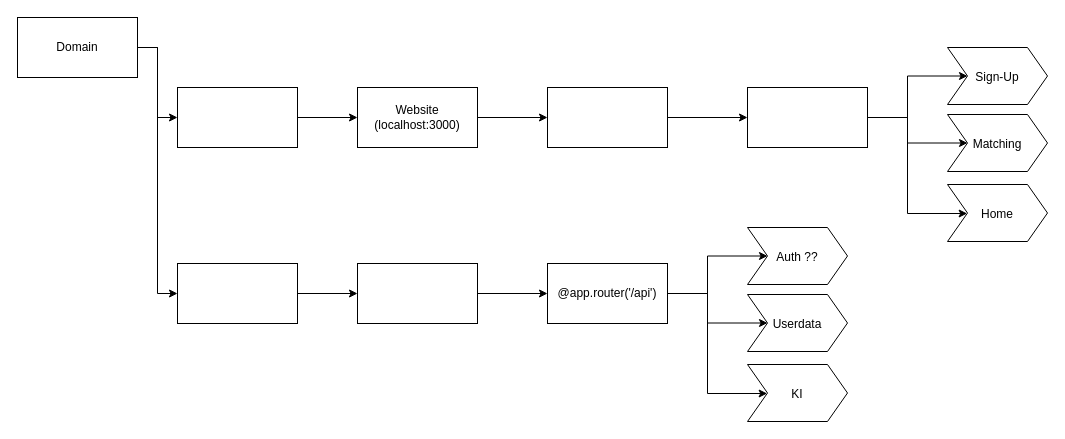
The diagram is 1065 pixels wide and 439 high, and some of its shapes have lost their labels. Each missing label, with the centre of its shape:
"API (localhost:5000)" belongs at [417,293].
"gunicorn (Port 5000 <local>)" belongs at [237,293].
"Nginx (Port 80)" belongs at [237,117].
"React (index.html)" belongs at [607,117].
"Router Switch" belongs at [807,117].
